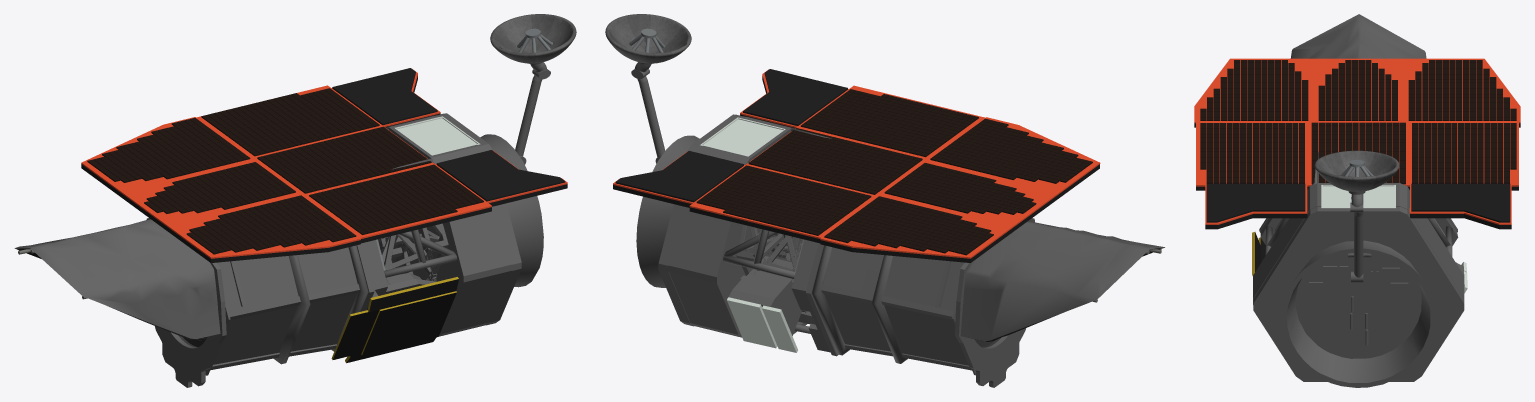
Rendered from roman.glb.
3 views of the same model, side by side, from view 1: azimuth 30°, elevation 25°; view 2: azimuth 150°, elevation 25°; view 3: azimuth 270°, elevation 25° (orthographic).
Visible parts, largest first — view 1: Empty_Mesh, Empty_Mesh.2507, Empty_Mesh.2785, Empty_Mesh.2787, Empty_Mesh.5368, Empty_Mesh.013, Empty_Mesh.3034, Cube, Mid_section_2250608_BOND_LINE_1_body1_157.001, Empty_Mesh.445; view 2: Empty_Mesh, Empty_Mesh.2507, Empty_Mesh.2785, Empty_Mesh.2787, Empty_Mesh.013, Cube, Empty_Mesh.3034, Mid_section_2250608_BOND_LINE_1_body1_157.001, Empty_Mesh.445; view 3: Empty_Mesh, Empty_Mesh.2507, Empty_Mesh.2787, Empty_Mesh.2785, Empty_Mesh.3034, Empty_Mesh.013, Cube, Empty_Mesh.5368, Empty_Mesh.445.
Boxes of the visible parts, box(x1,y1,x2,y2) form: Empty_Mesh: box(14, 113, 543, 387); Empty_Mesh.2507: box(87, 88, 483, 254); Empty_Mesh.2785: box(18, 68, 567, 339); Empty_Mesh.2787: box(81, 69, 567, 258); Empty_Mesh.5368: box(331, 277, 458, 363); Empty_Mesh.013: box(178, 62, 550, 375); Empty_Mesh.3034: box(490, 14, 576, 63); Cube: box(395, 116, 479, 155); Mid_section_2250608_BOND_LINE_1_body1_157.001: box(378, 223, 448, 281); Empty_Mesh.445: box(376, 28, 552, 270); Empty_Mesh: box(636, 114, 1164, 387); Empty_Mesh.2507: box(696, 89, 1092, 255); Empty_Mesh.2785: box(613, 69, 1161, 341); Empty_Mesh.2787: box(613, 69, 1100, 258); Empty_Mesh.013: box(631, 62, 975, 375); Cube: box(700, 117, 797, 352); Empty_Mesh.3034: box(605, 14, 691, 63); Mid_section_2250608_BOND_LINE_1_body1_157.001: box(736, 224, 804, 311); Empty_Mesh.445: box(629, 28, 810, 323); Empty_Mesh: box(1253, 14, 1464, 387); Empty_Mesh.2507: box(1200, 60, 1516, 184); Empty_Mesh.2787: box(1194, 58, 1520, 224); Empty_Mesh.2785: box(1194, 123, 1520, 229); Empty_Mesh.3034: box(1314, 150, 1399, 191); Empty_Mesh.013: box(1260, 152, 1458, 282); Cube: box(1321, 185, 1467, 293); Empty_Mesh.5368: box(1252, 232, 1265, 275); Empty_Mesh.445: box(1275, 160, 1445, 236).
Size of the model in its own units: 344 by 164 by 184.
Materials: 15 (2 with a texture image).
